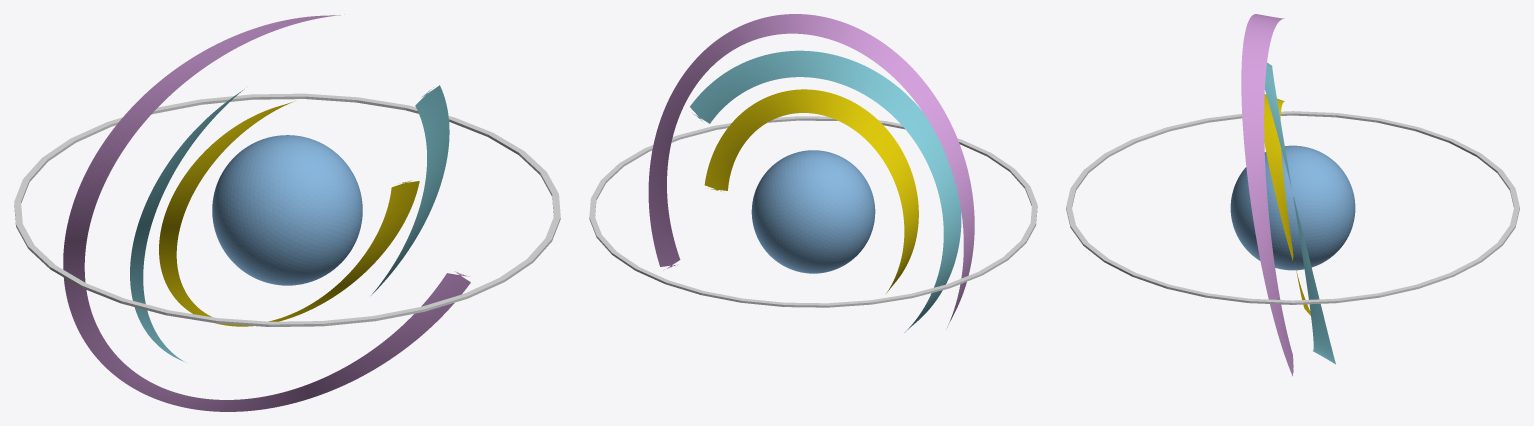
Rendered from atlas_vii_rainbow_bridge_fixed.glb.
3 renders of one model, left to right at view 1: azimuth 30°, elevation 25°; view 2: azimuth 150°, elevation 25°; view 3: azimuth 270°, elevation 25°, orthographic. The views are drawn at different scales.
Parts seen in each view (by area): view 1: world; view 2: world; view 3: world.
Part boxes in pixels (bbox=[...]): world: bbox=[14, 14, 560, 411]; world: bbox=[589, 14, 1037, 332]; world: bbox=[1066, 14, 1519, 376].
Bounding box in the file's own units: 4 × 3.48 × 4.
